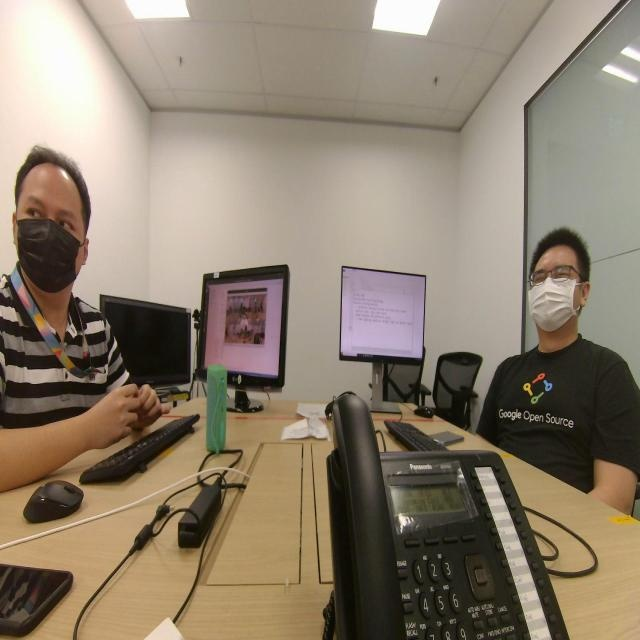obstacle: (464, 187, 626, 429), (0, 114, 114, 437)
